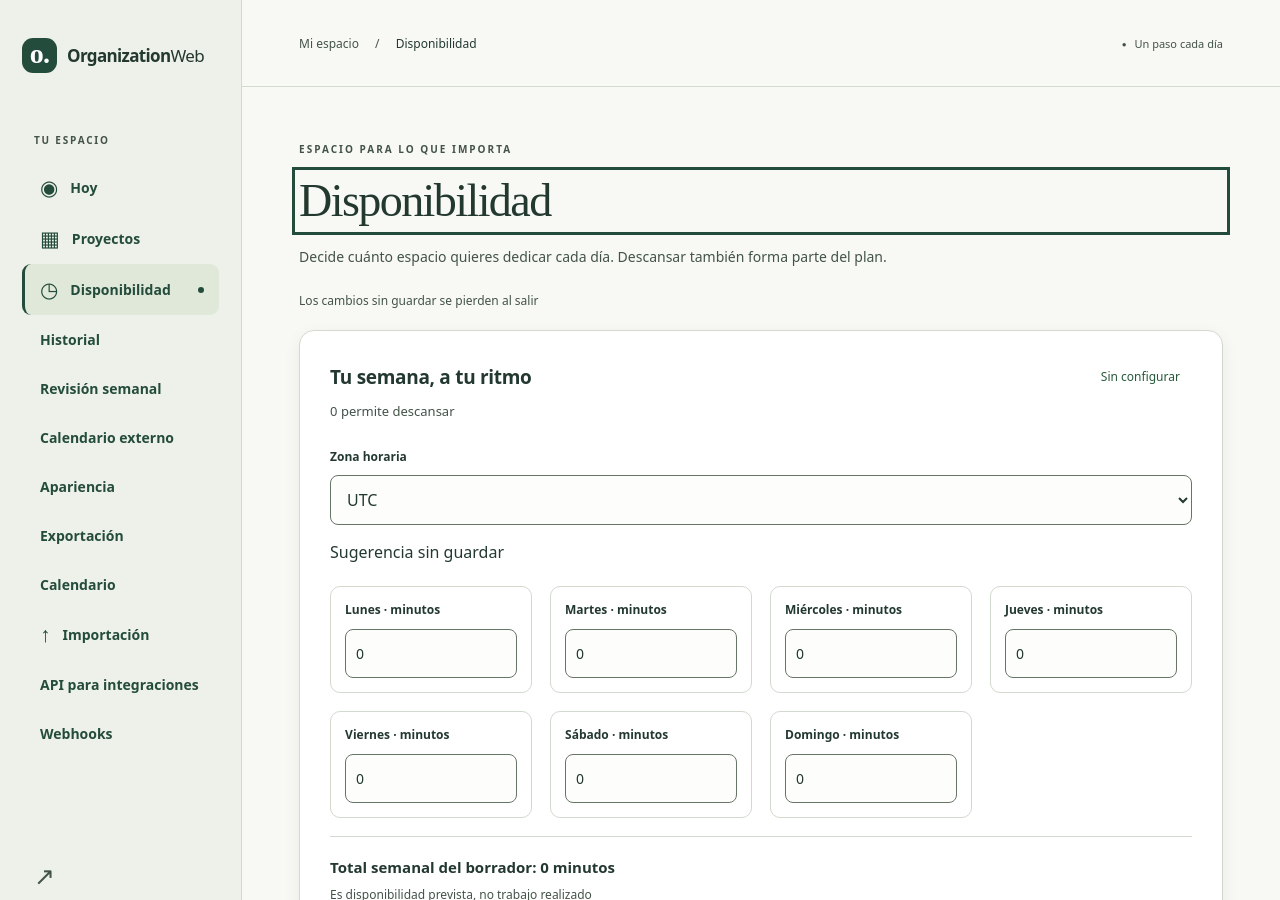
Test: @s32 un error HTTP no reconocido conserva recuperación segura: 400 null
Expected: the text "Sin configurar" is shown, [1089,361,1192,392]
Select "UTC" in the dropdown labelled "Zona horaria" at (761, 500), box [330,475,1192,525]
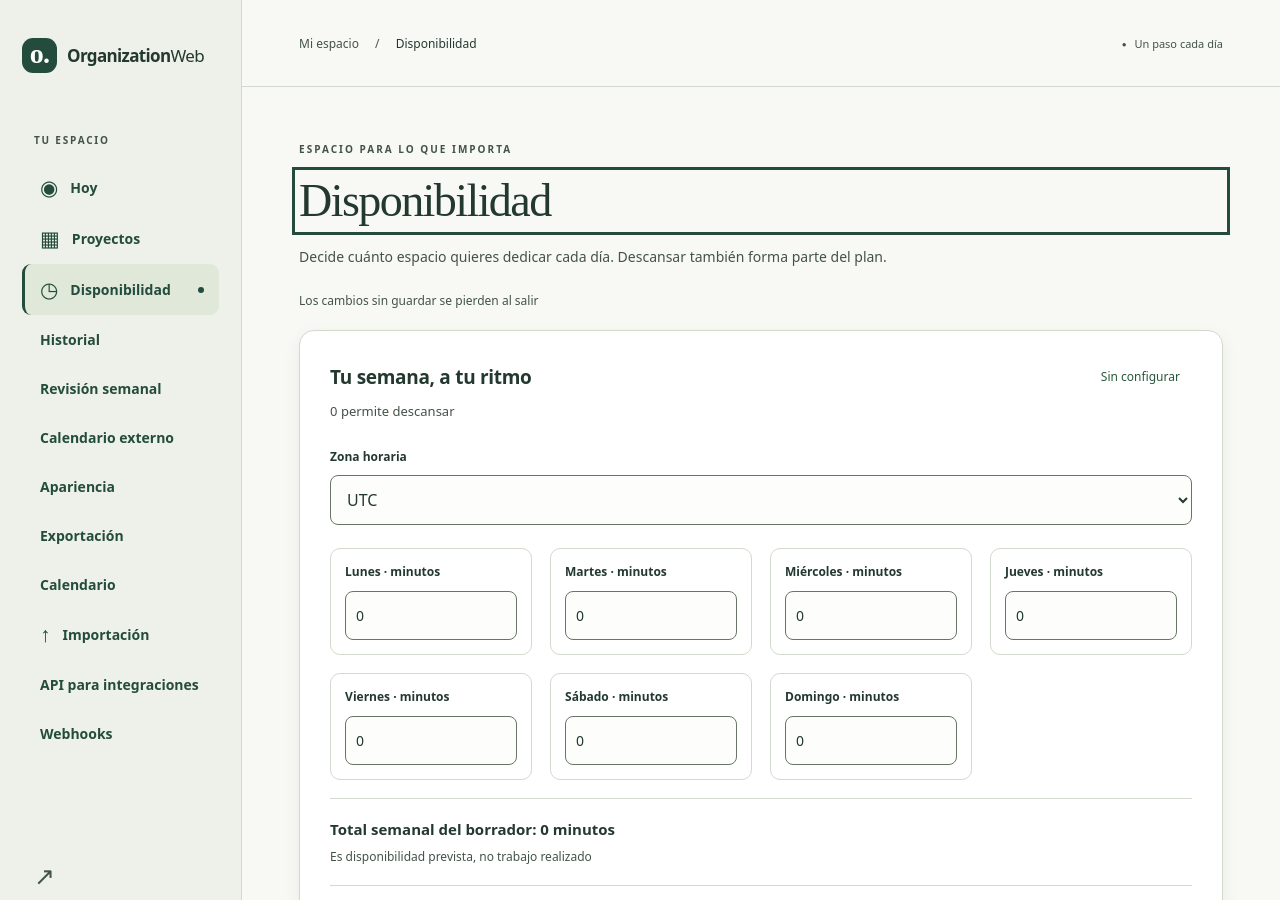
Replace the text in the number field labelled "Lunes · minutos" with "35" at (431, 616), box [345,591,517,640]
(page scrolled)
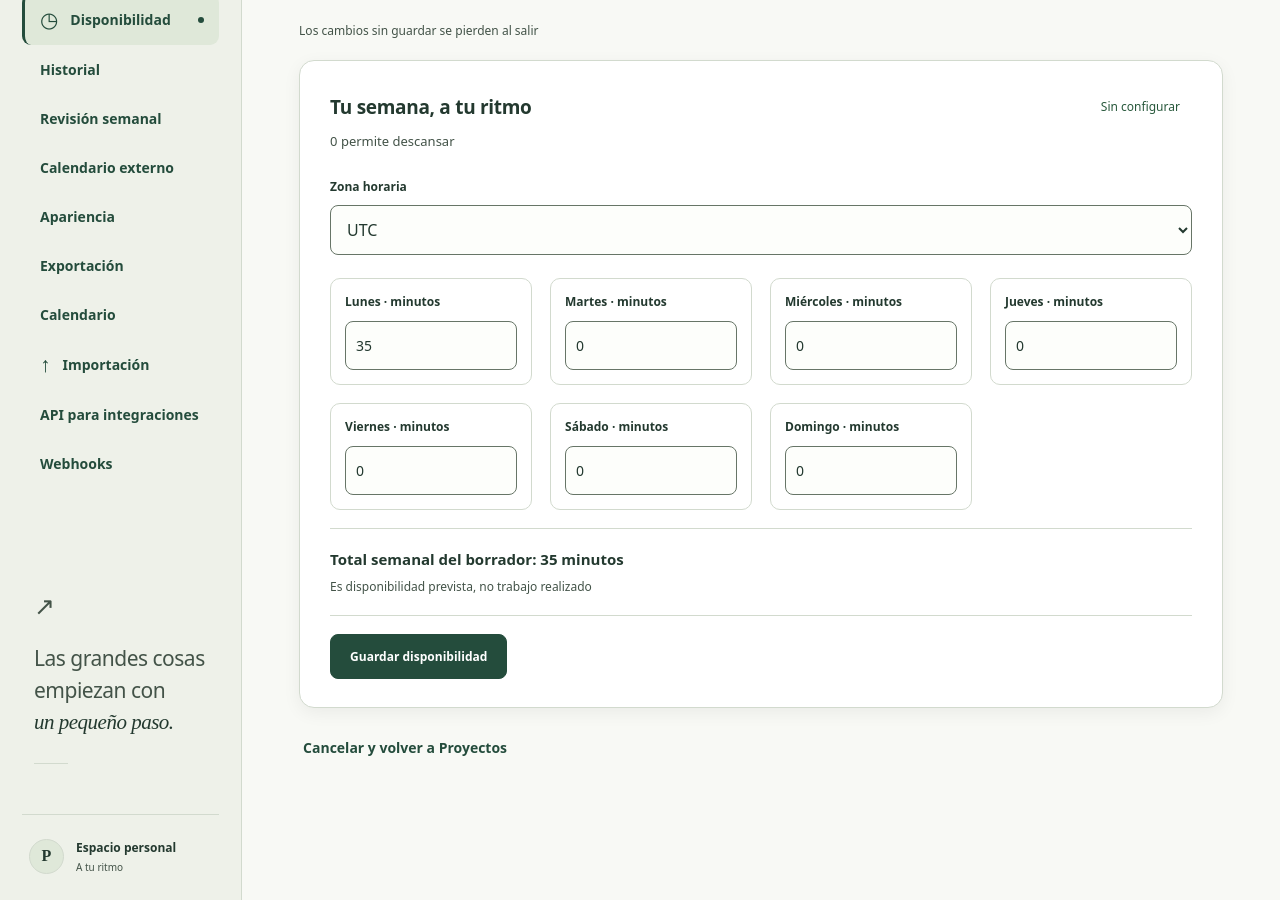
Click the button "Guardar disponibilidad" at (419, 656), box [330,634,507,678]
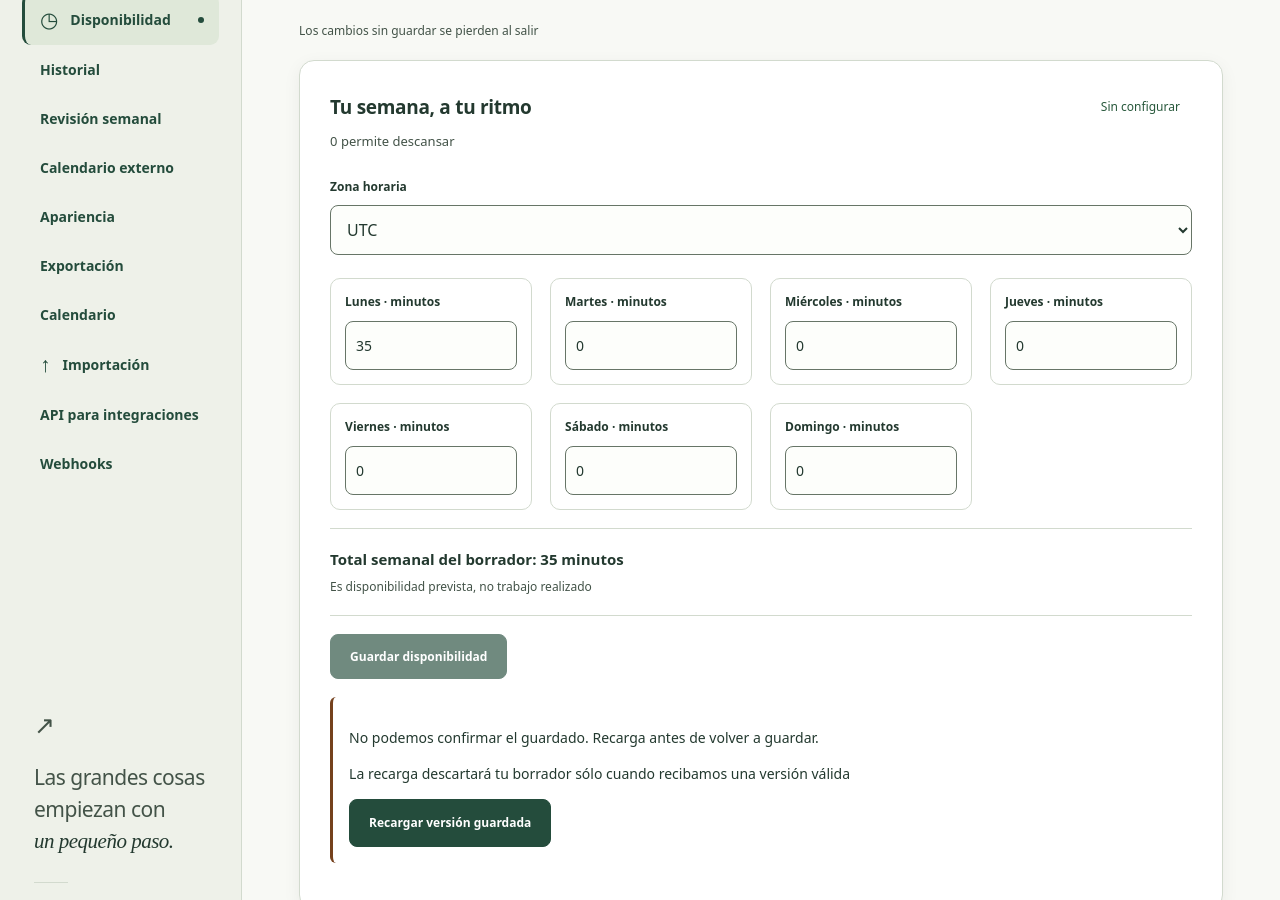
Result: the button "Recargar versión guardada" is shown at [349,799,551,846]
Result: the message shows "No podemos confirmar el guardado" at [349,728,819,746]
Result: the button "Guardar disponibilidad" is disabled at [330,634,507,678]
